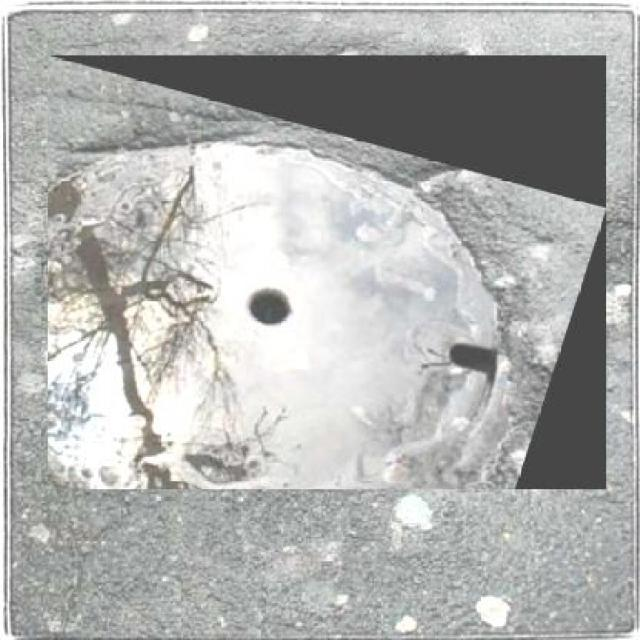Manhole: (48, 56, 606, 490)
